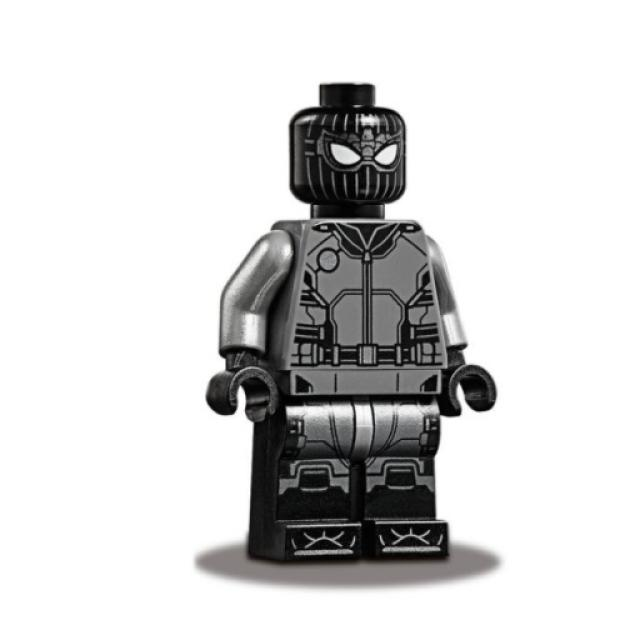Lego-Minifigures: (170, 63, 559, 605)
